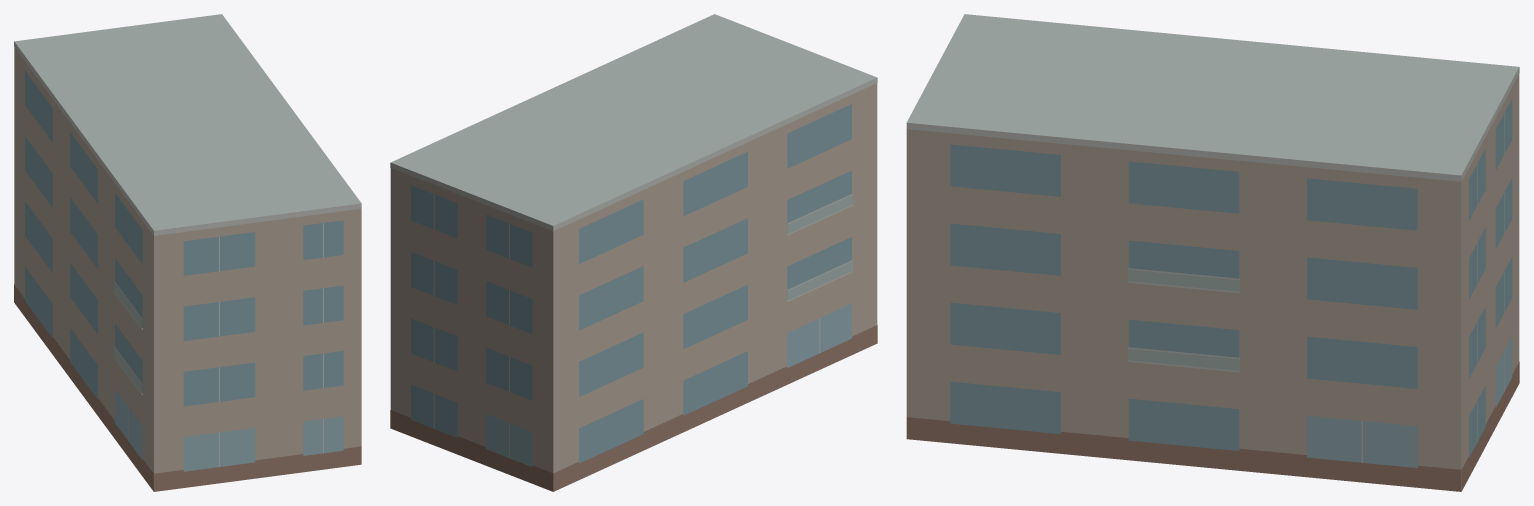
Rendered from residential-7e339ba9-208c-4b31-9c46-49ac5c800783.glb.
3 renders of one model, left to right at view 1: azimuth 30°, elevation 25°; view 2: azimuth 150°, elevation 25°; view 3: azimuth 270°, elevation 25°, orthographic. The views are drawn at different scales.
Parts seen in each view (by area): view 1: residential-7e339ba9-208c-4b31-9c46-49ac5c800783.tmp; view 2: residential-7e339ba9-208c-4b31-9c46-49ac5c800783.tmp; view 3: residential-7e339ba9-208c-4b31-9c46-49ac5c800783.tmp.
Boxes of the visible parts, x1,y1,x2,y2 form: residential-7e339ba9-208c-4b31-9c46-49ac5c800783.tmp: (14, 14, 361, 491); residential-7e339ba9-208c-4b31-9c46-49ac5c800783.tmp: (390, 14, 877, 491); residential-7e339ba9-208c-4b31-9c46-49ac5c800783.tmp: (906, 14, 1519, 491).
Size of the model in its own units: 13.37 by 12.2 by 21.43.
